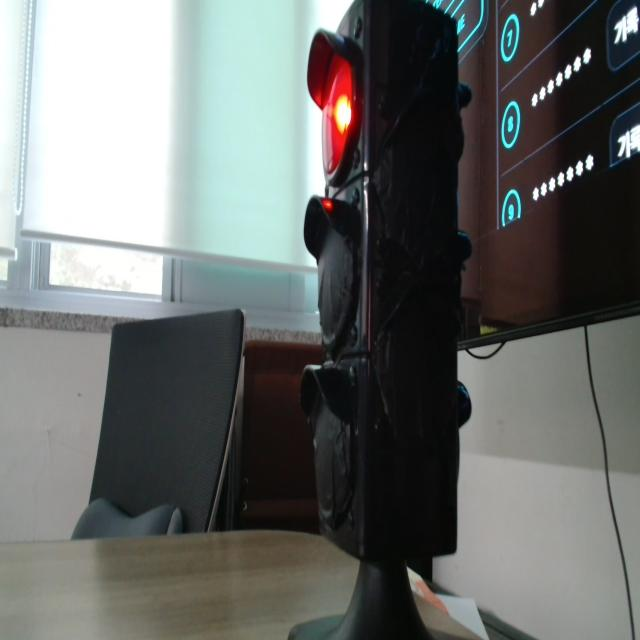red_light: (308, 30, 361, 186), (323, 55, 352, 174), (322, 199, 333, 213)
